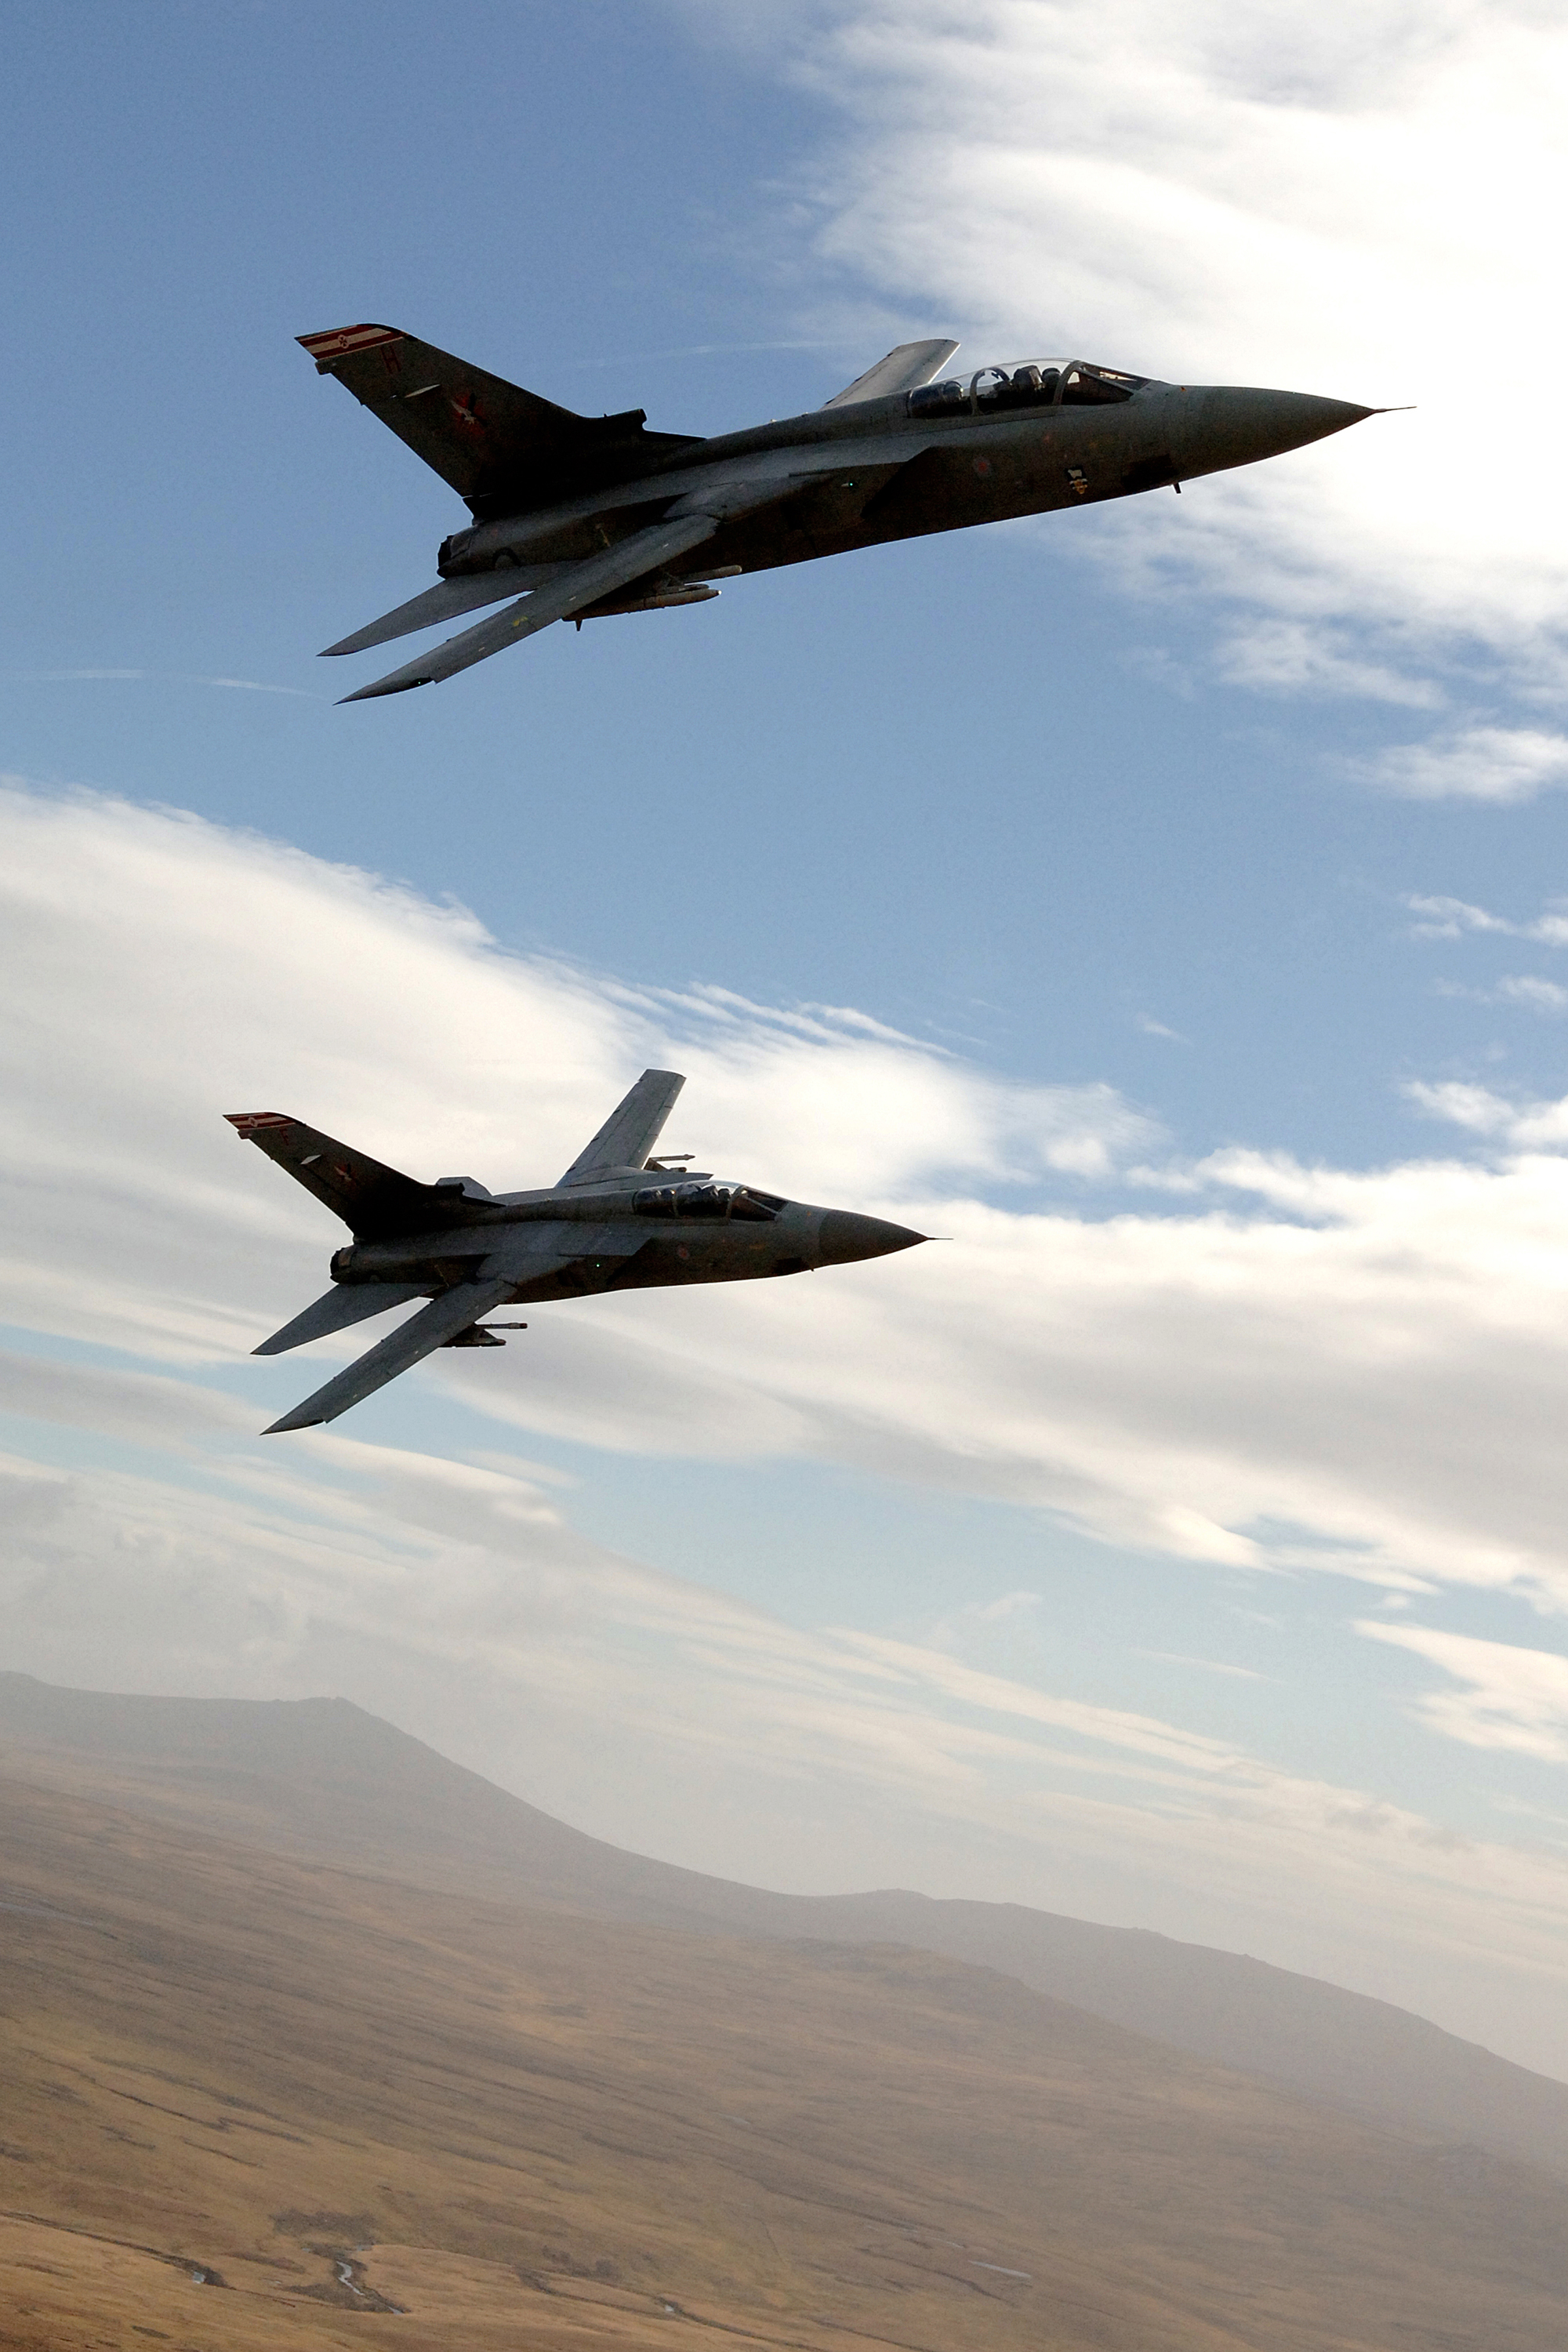Tornado: (294, 322, 1418, 707), (220, 1067, 954, 1437)
